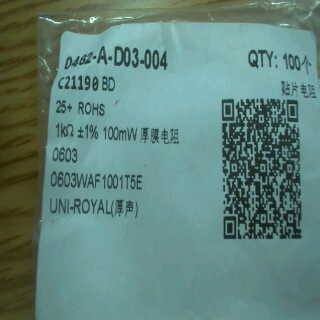1kR: (52, 120, 74, 142)
